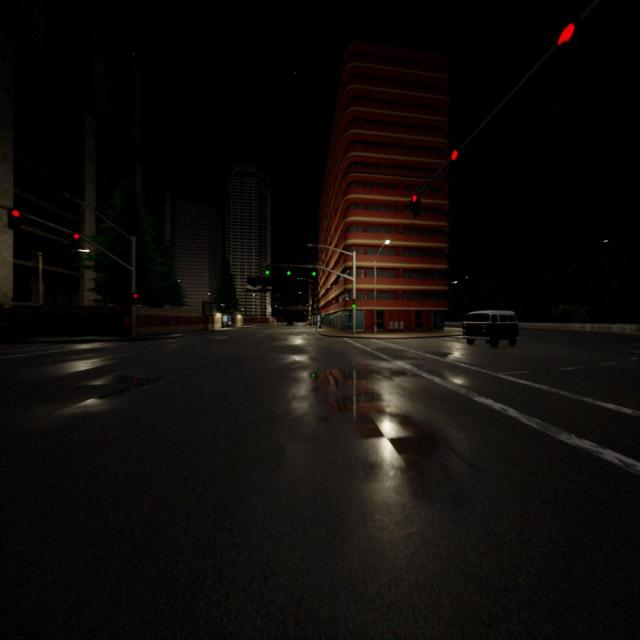Vehicle: (462, 309, 518, 346), (286, 320, 294, 326)
traffic_light: (556, 23, 576, 48), (8, 207, 20, 229), (412, 194, 420, 218), (70, 232, 80, 250), (132, 293, 139, 305), (451, 150, 458, 160), (265, 264, 270, 276), (352, 299, 356, 309), (286, 266, 290, 276), (312, 267, 316, 276)
